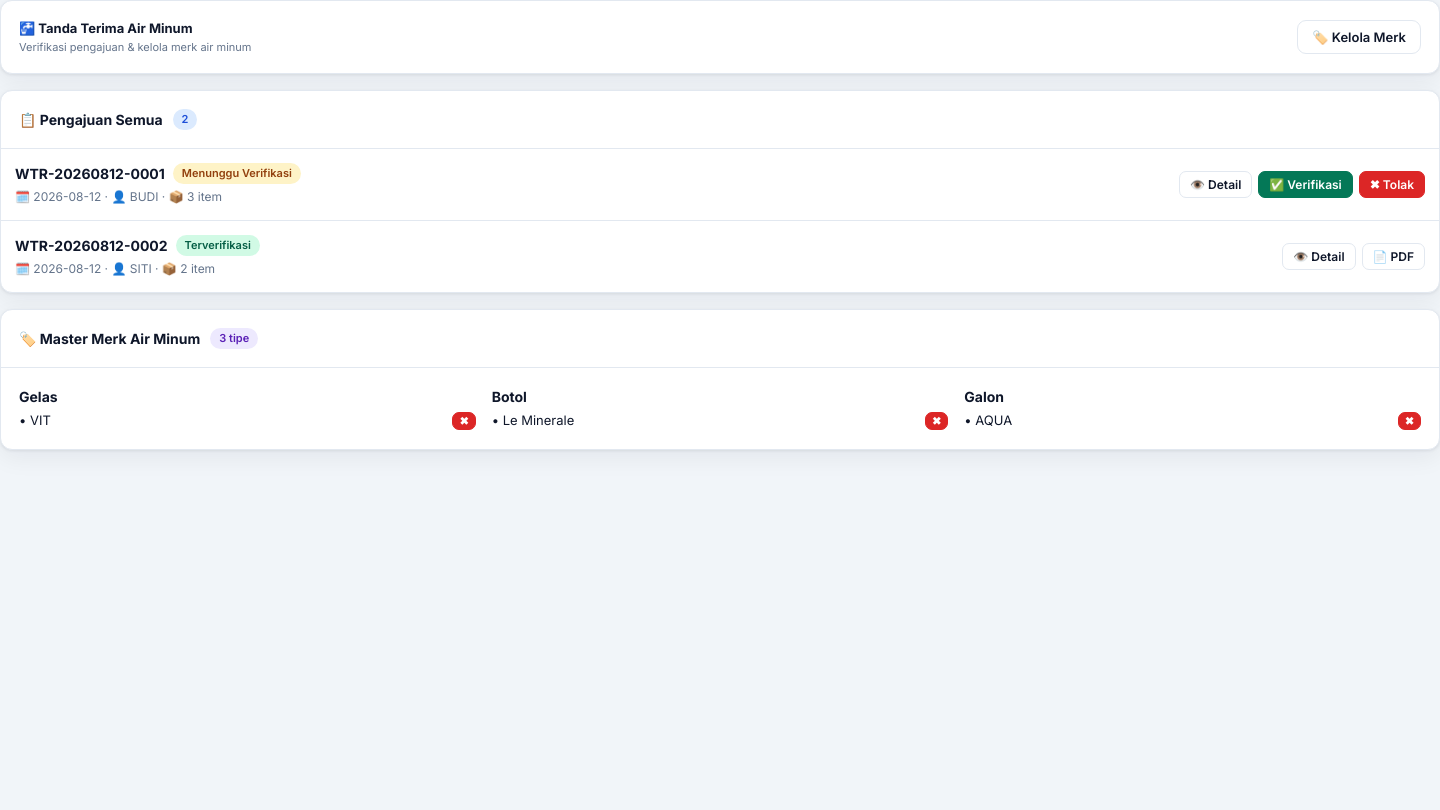
WaterView › detail menampilkan remark verifikasi (pengajuan terverifikasi)
This screenshot has width=1440, height=810.
Buka detail pengajuan TERVERIFIKASI (indeks 1) — punya remark
Step 1. Click the button "👁️ Detail" in the row of "Terverifikasi" → (1319, 256), box [1282, 243, 1356, 270]
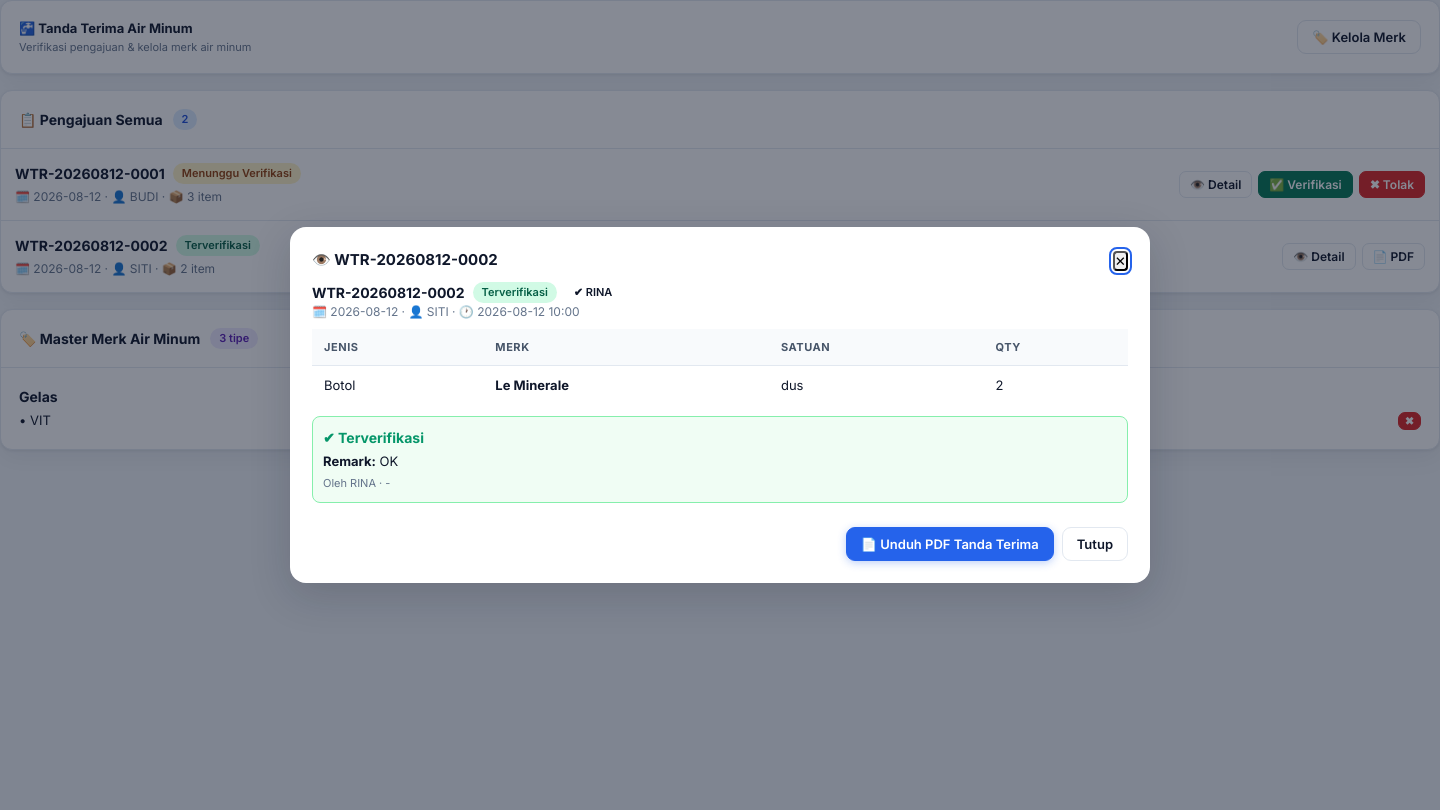
Result: the text "Remark" is shown at [323, 453, 376, 469]
Result: the text "OK" is shown at [376, 453, 398, 469]
